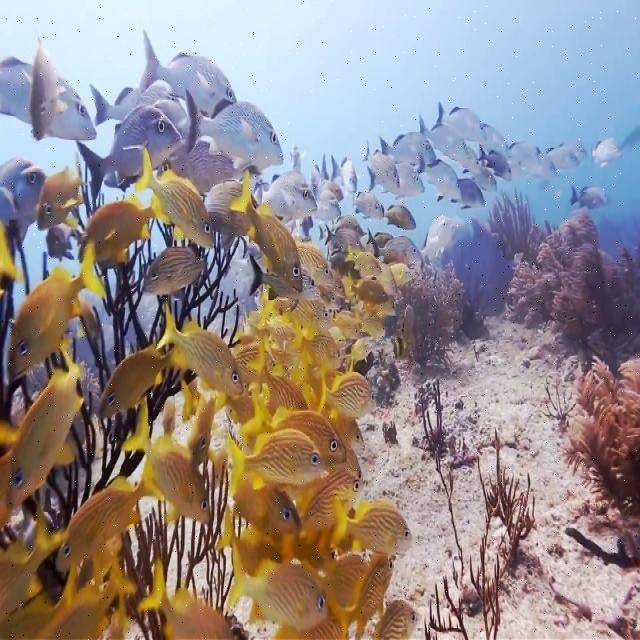fish: (8, 245, 104, 382), (6, 346, 85, 510), (121, 400, 211, 525), (331, 131, 436, 234), (76, 105, 181, 204), (55, 471, 158, 571), (229, 537, 328, 632), (228, 171, 302, 292), (140, 27, 238, 116), (33, 558, 140, 639), (325, 140, 398, 251), (156, 303, 245, 394), (0, 56, 96, 140), (138, 558, 237, 639), (187, 89, 283, 172), (135, 148, 215, 247), (240, 384, 345, 459), (0, 506, 66, 620), (226, 430, 328, 497), (100, 345, 186, 417), (330, 554, 396, 639), (78, 197, 151, 264), (89, 82, 188, 128), (333, 497, 412, 553), (235, 472, 303, 535), (258, 337, 310, 414), (250, 255, 320, 310), (167, 138, 238, 191), (297, 470, 362, 526), (142, 240, 207, 292), (0, 157, 47, 227), (186, 394, 229, 467), (32, 34, 59, 140), (37, 168, 83, 230), (317, 372, 378, 417), (260, 172, 316, 216), (416, 149, 461, 196), (420, 115, 468, 158), (433, 102, 483, 142), (291, 328, 342, 367), (373, 601, 422, 639), (297, 241, 336, 288), (420, 216, 454, 260), (386, 165, 425, 199), (345, 276, 389, 306), (439, 180, 485, 208), (310, 161, 343, 200), (373, 236, 419, 263), (346, 245, 381, 280), (478, 144, 512, 180), (520, 148, 554, 180), (331, 153, 357, 191), (570, 184, 609, 208), (508, 143, 536, 175), (484, 126, 510, 160), (592, 137, 624, 164), (352, 192, 382, 219), (547, 145, 579, 170), (382, 206, 414, 231), (467, 166, 497, 190), (455, 146, 481, 172), (377, 264, 398, 294), (314, 196, 341, 219), (362, 313, 385, 337), (566, 140, 589, 160), (367, 228, 392, 246)
sea-floor: (352, 189, 639, 638)
